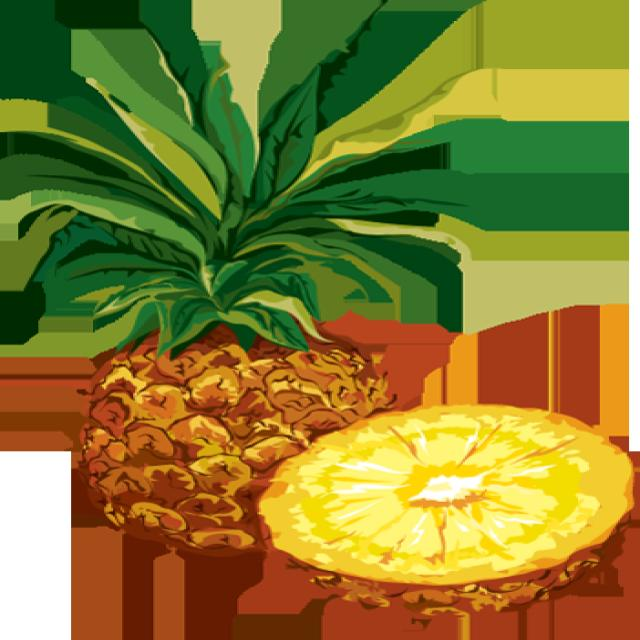pineapple: (65, 241, 408, 580), (238, 398, 639, 634)
